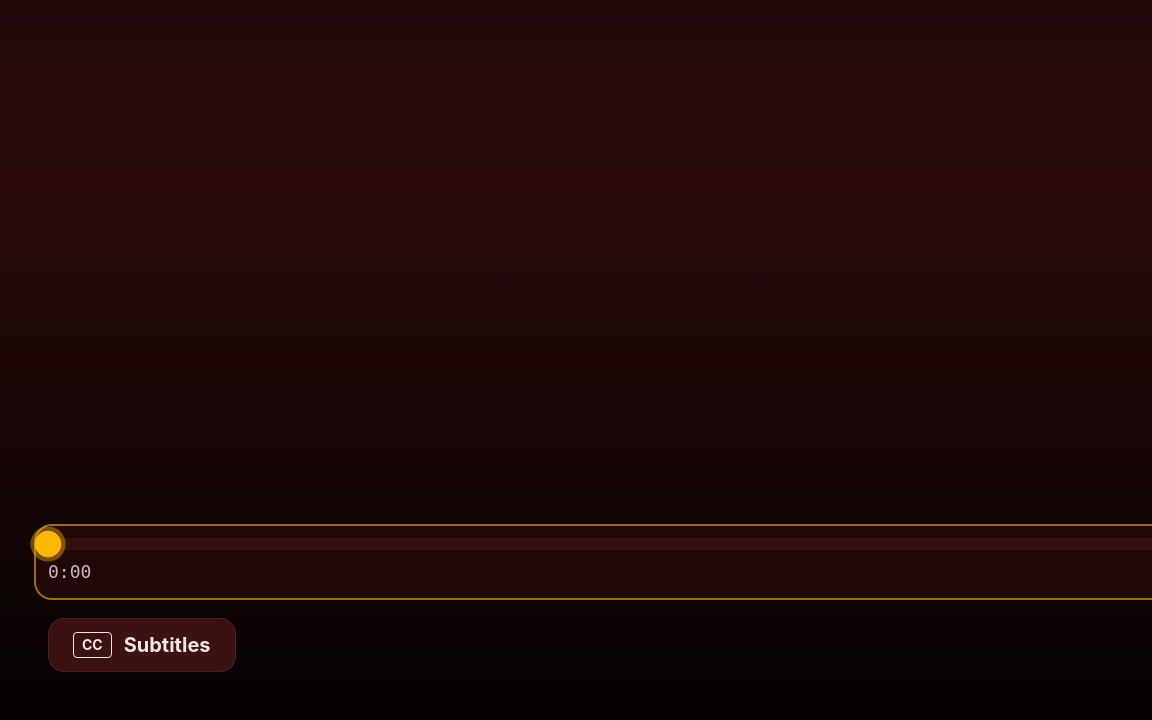
Test: PlayerOSD › Subtitles Menu & OSD Track Selection › navigates with ArrowUp / ArrowDown and selects track on Enter
The width and height of the screenshot is (1152, 720).
(page scrolled)
Click the button with test id "subtitles-button" at [142, 645], box x1=48 y1=618 x2=236 y2=672
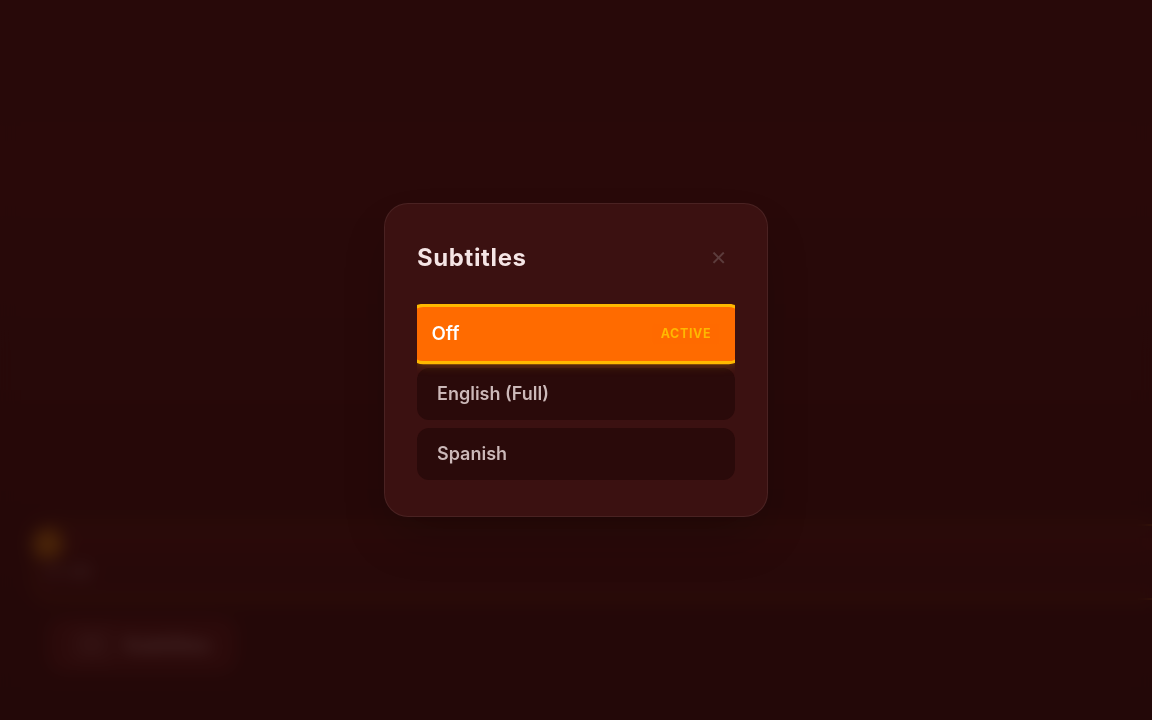
Result: the dialog with test id "subtitles-popup" is shown
# Navigate down to English (Full) (index 1)
Press ArrowDown
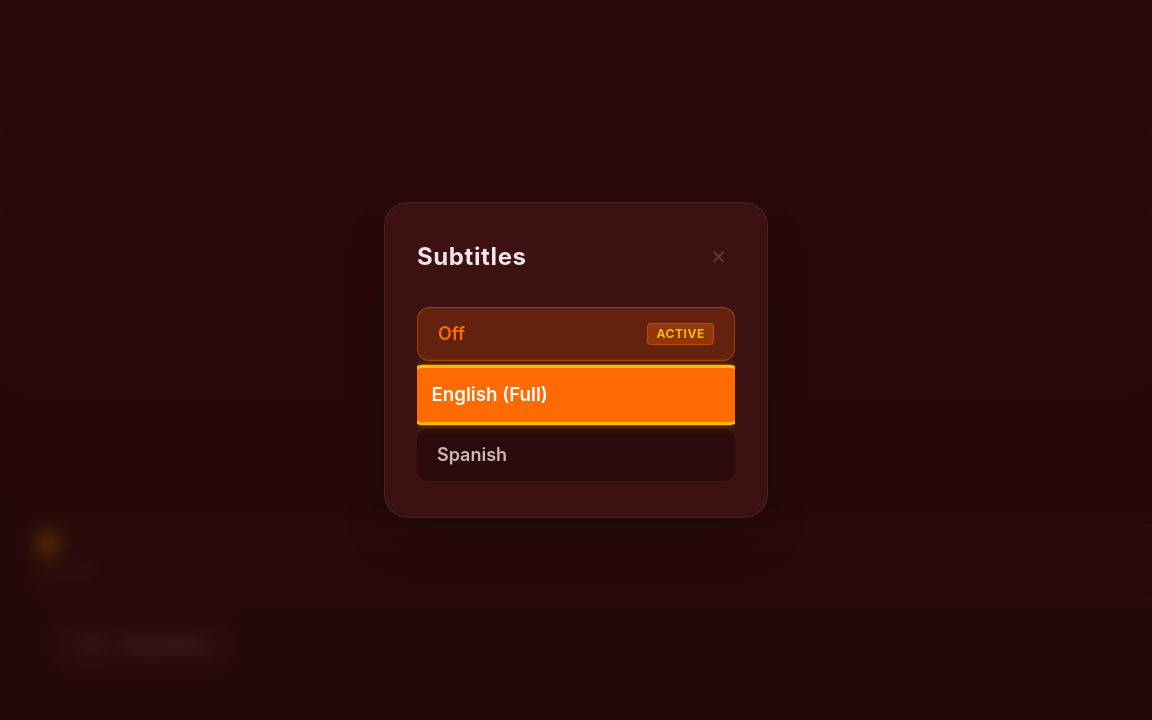
# Navigate down to Spanish (index 2)
Press ArrowDown
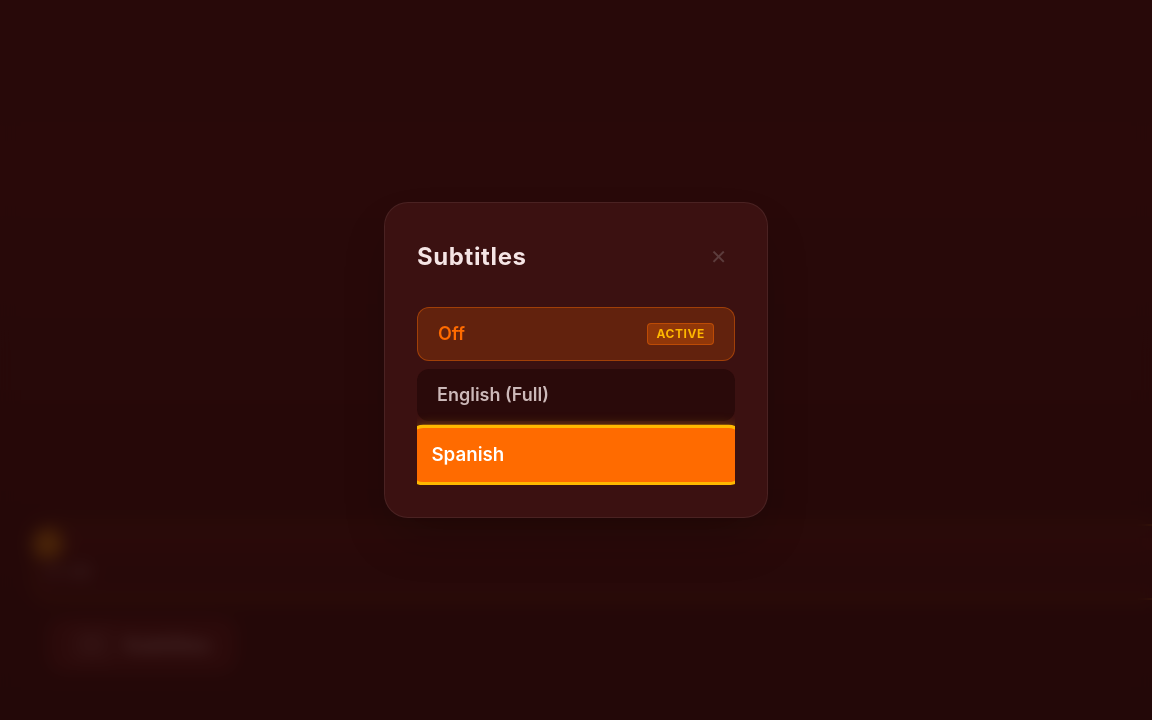
# Press Enter
Press Enter
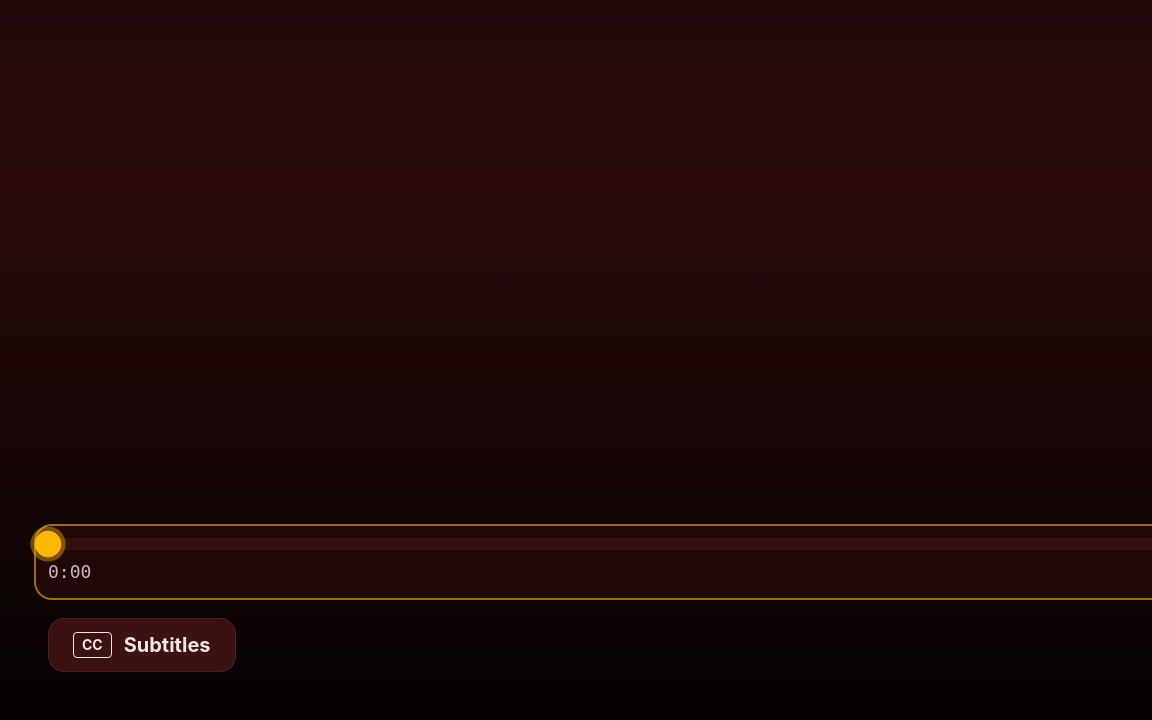
Result: the dialog with test id "subtitles-popup" is gone
